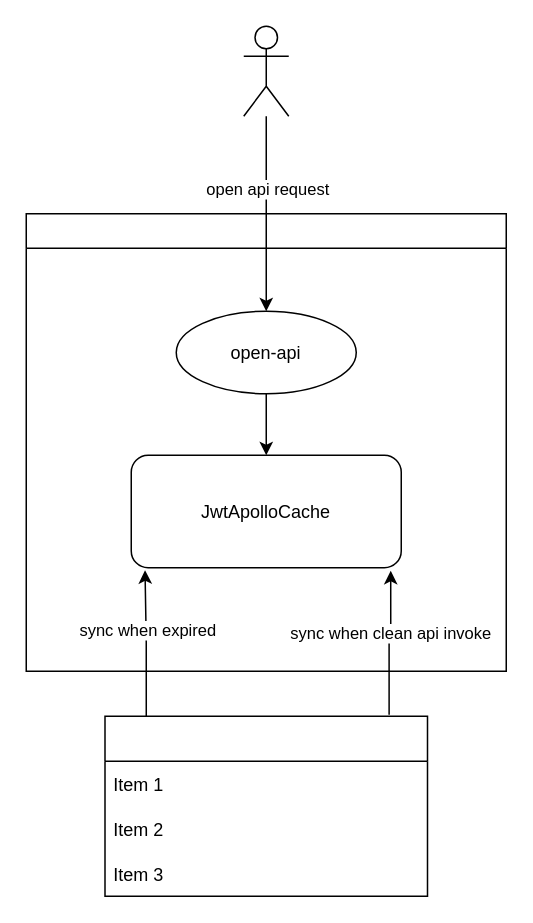
This 533x923 diagram has some shape labels left out. The box of each missing label's shape, as (x1, y1, x2, y2) in pixels:
client_jwt_tab: (104, 715, 428, 896)
wms-v2: (25, 212, 506, 671)
